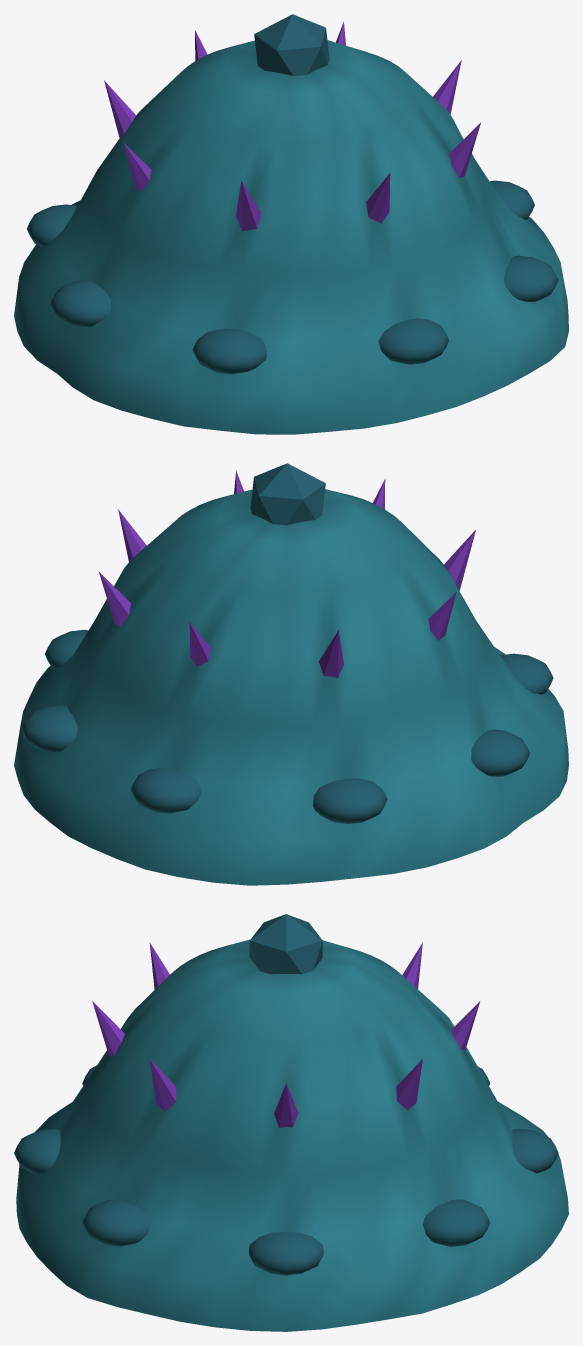
The model's file is hydra.glb.
The picture shows the model from 3 angles, top to bottom: view 1: azimuth 30°, elevation 25°; view 2: azimuth 150°, elevation 25°; view 3: azimuth 270°, elevation 25°; orthographic projection.
Visible parts, largest first — view 1: hyd_trunk; view 2: hyd_trunk; view 3: hyd_trunk.
Part boxes in pixels (bbox=[...]): hyd_trunk: bbox=[14, 14, 568, 434]; hyd_trunk: bbox=[14, 463, 568, 885]; hyd_trunk: bbox=[14, 914, 568, 1331].
Bounding box in the file's own units: 4.5 × 3.5 × 4.52.
